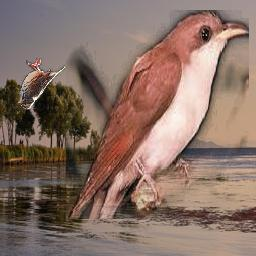Cuckoo: (67, 11, 250, 220)
Sparrow: (17, 58, 66, 110)
